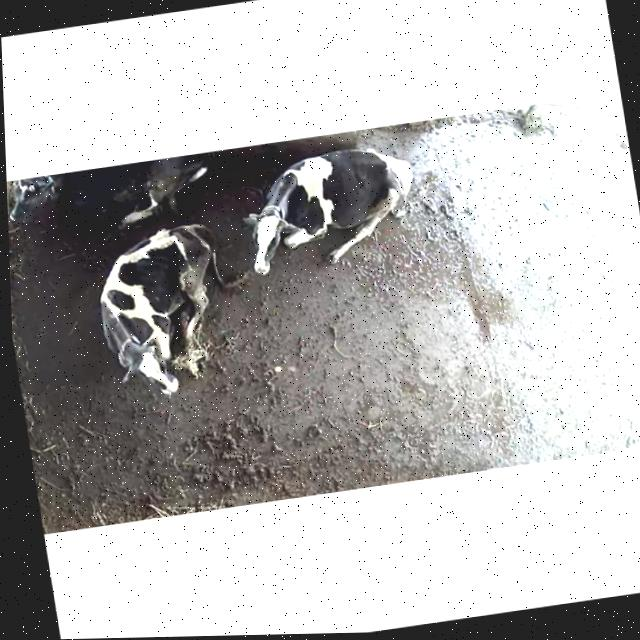lay: (70, 212, 263, 418), (230, 128, 445, 289), (6, 150, 222, 241)
